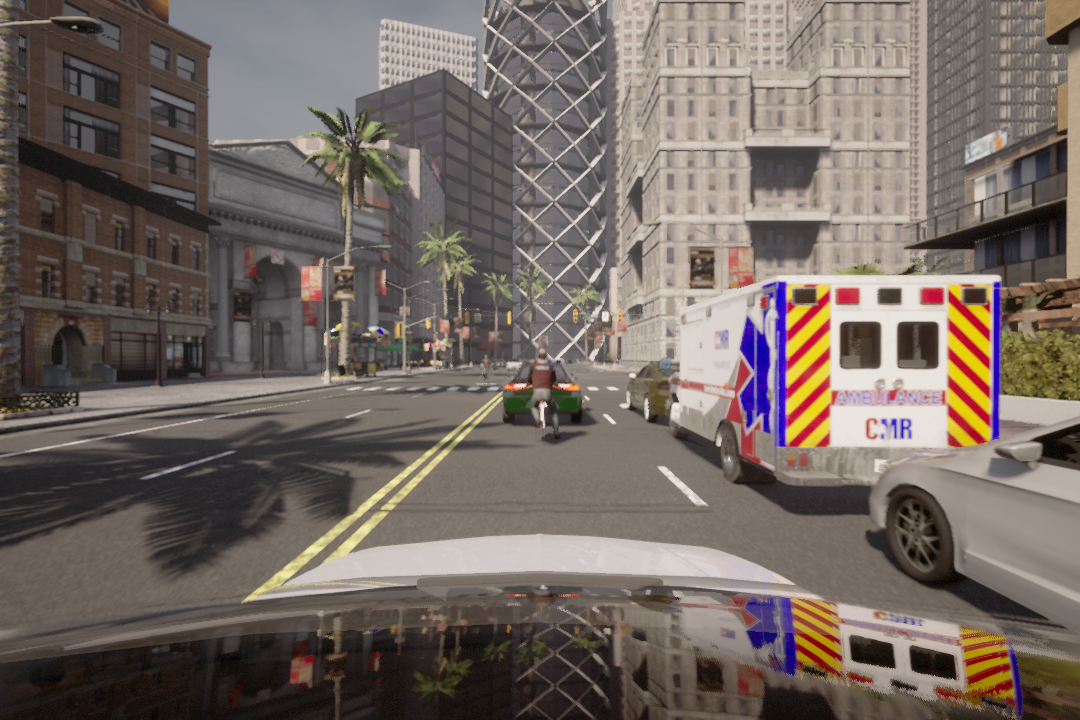walkside: (344, 382, 655, 394)
